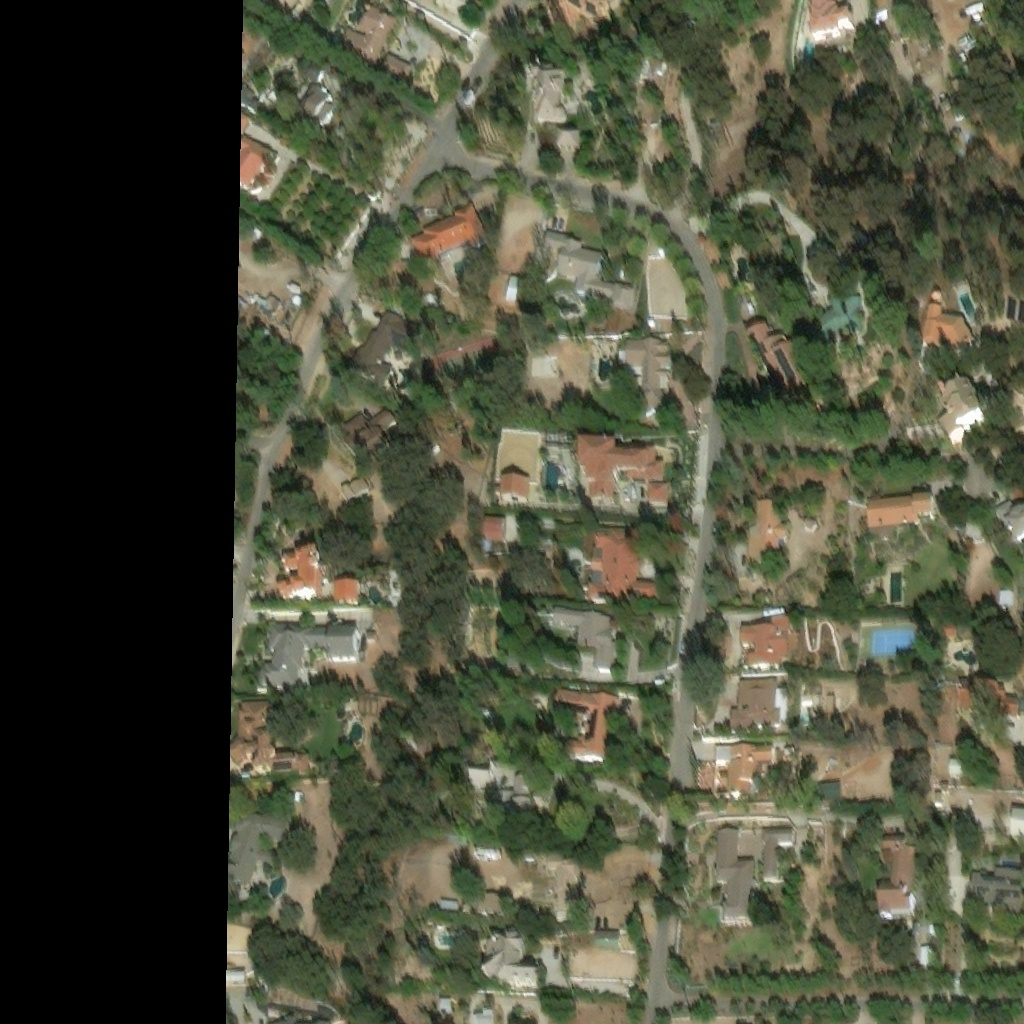0 no-damage: (539, 224, 638, 311), (263, 626, 364, 691), (228, 701, 310, 776), (225, 810, 289, 902), (590, 526, 660, 602), (579, 438, 662, 502), (748, 327, 812, 410), (469, 763, 554, 823), (554, 687, 619, 765), (408, 199, 491, 260), (698, 744, 777, 801), (353, 308, 413, 383), (716, 825, 763, 918), (552, 609, 614, 668), (337, 5, 397, 64), (878, 834, 917, 920), (480, 929, 541, 983), (938, 381, 992, 442), (730, 680, 786, 734), (344, 409, 397, 465), (968, 864, 1023, 917), (539, 0, 609, 41), (620, 339, 670, 393), (748, 497, 787, 566), (923, 310, 976, 359), (741, 619, 791, 670), (816, 303, 865, 355), (545, 840, 581, 910), (866, 492, 935, 526), (278, 555, 325, 603), (238, 139, 275, 194), (959, 674, 1016, 708), (532, 63, 565, 119), (869, 116, 910, 160), (626, 52, 666, 93), (762, 828, 793, 880), (297, 84, 335, 126), (809, 0, 853, 33), (994, 500, 1023, 546), (909, 104, 940, 139), (266, 0, 313, 22), (658, 68, 682, 107), (381, 57, 415, 84), (239, 81, 263, 115), (341, 477, 372, 503), (605, 307, 638, 330), (501, 480, 531, 505), (486, 524, 507, 558), (336, 583, 362, 610), (959, 509, 984, 536), (433, 0, 472, 16), (477, 892, 504, 915), (504, 271, 522, 302), (816, 781, 840, 801), (595, 928, 620, 947), (555, 124, 580, 142), (1010, 803, 1023, 836), (956, 30, 976, 50), (304, 64, 325, 82), (687, 848, 715, 861), (647, 480, 666, 499), (947, 756, 968, 773), (239, 113, 253, 137), (256, 297, 277, 313), (473, 1008, 493, 1023), (801, 514, 818, 530), (874, 0, 888, 19), (998, 585, 1015, 600), (439, 995, 453, 1013), (921, 948, 935, 965), (424, 289, 441, 302), (943, 620, 958, 634), (965, 2, 984, 13), (767, 609, 790, 618), (441, 902, 460, 912), (826, 694, 834, 715), (825, 754, 836, 767), (784, 751, 796, 762), (483, 714, 496, 723), (933, 789, 941, 802), (933, 738, 940, 747)
